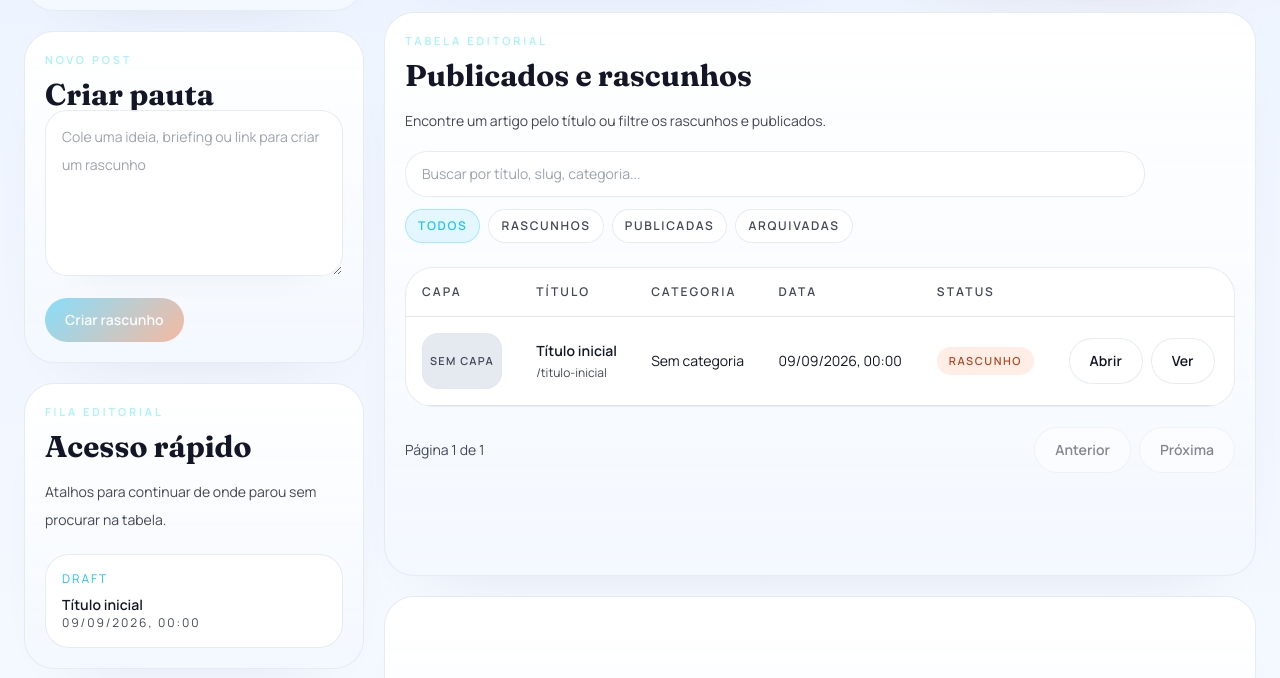
Test: does not publish or discard edits when saving fails
(page scrolled)
Click the button "Abrir". click: (1106, 361)
box: [1068, 338, 1143, 384]
(page scrolled)
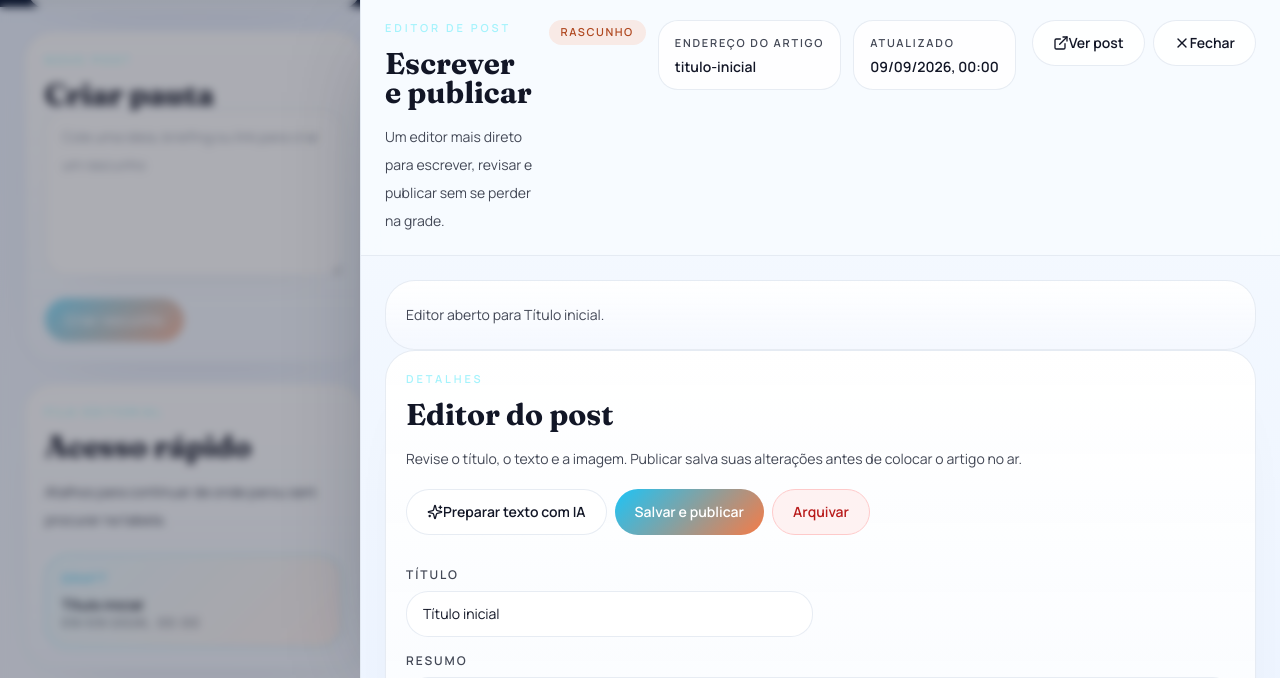
Replace the text in the field labelled "Título" with "Título revisado". click: (609, 614)
box: [406, 591, 812, 637]
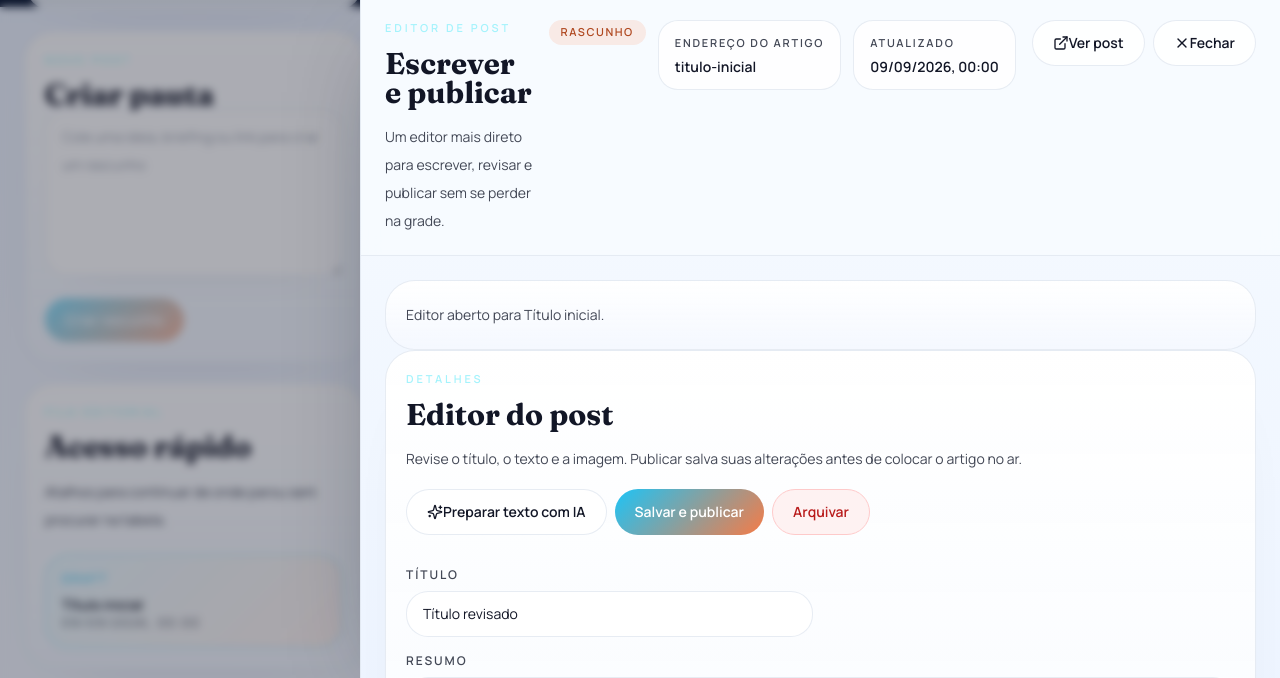
Click the button "Salvar e publicar". click: (689, 512)
box: [615, 489, 764, 535]
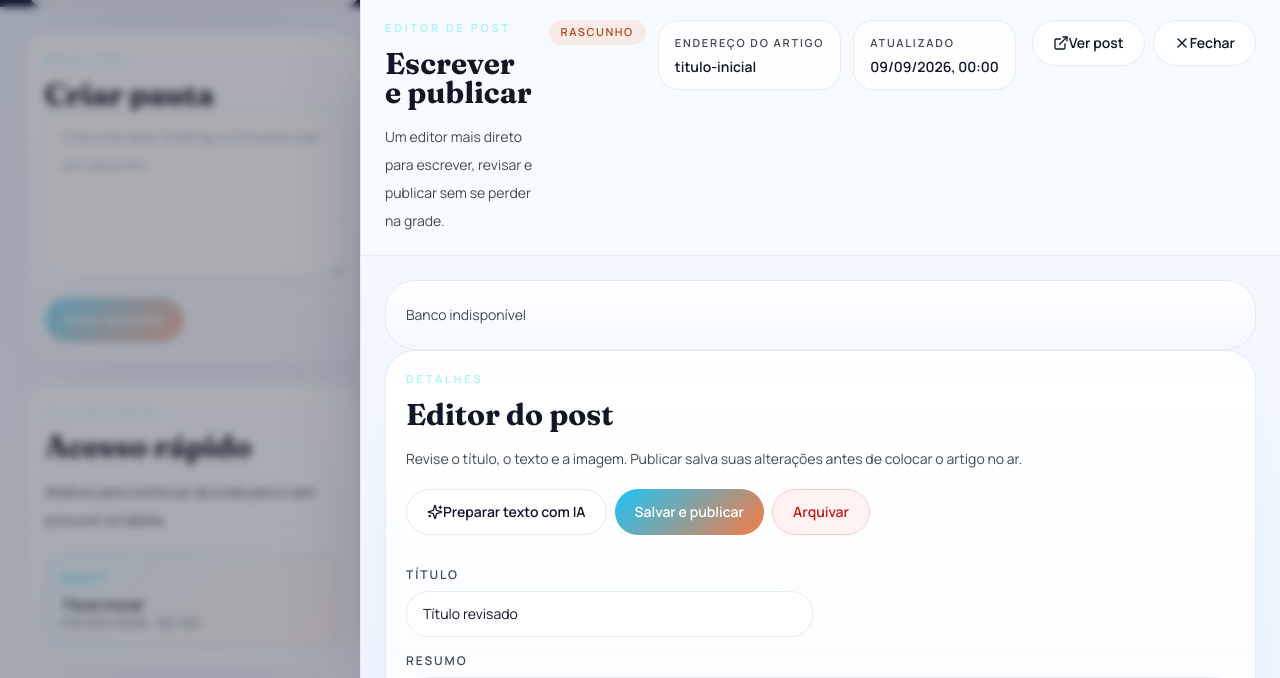
Expected: the text "Banco indisponível" is shown, [385, 280, 1256, 350]
